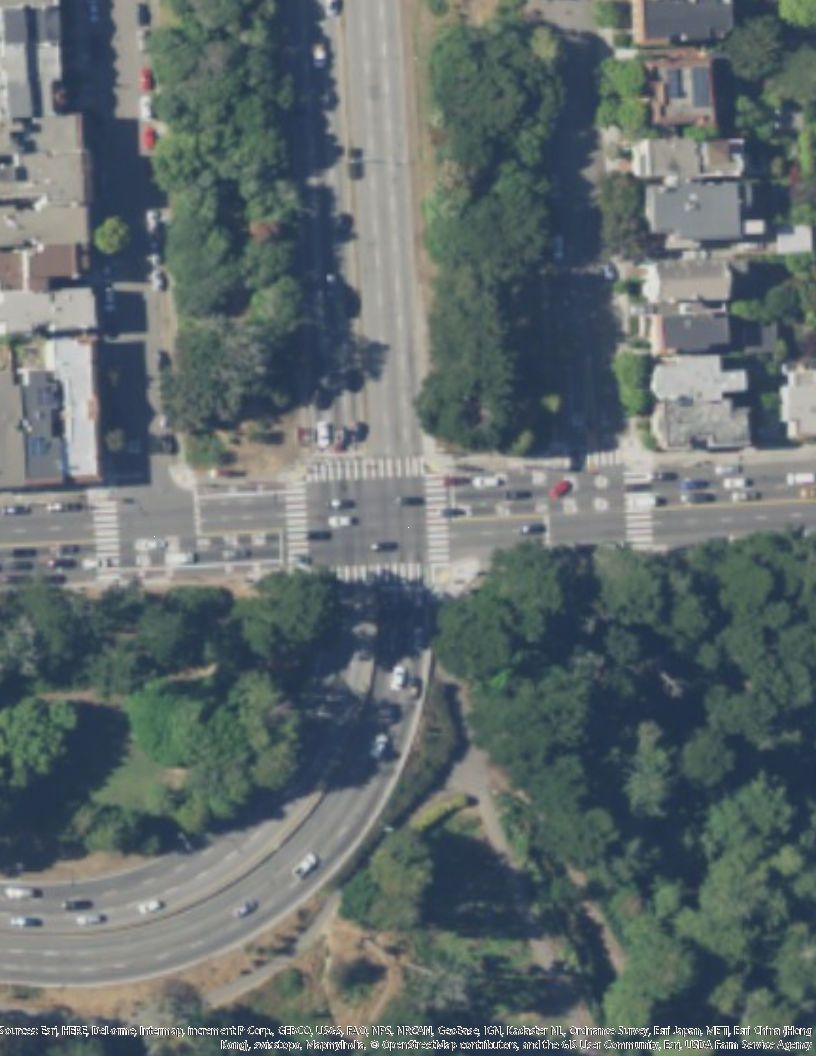zebracross: (310, 452, 438, 484), (92, 496, 124, 581), (626, 468, 657, 551), (425, 479, 451, 570), (282, 474, 308, 564), (334, 563, 427, 584)
